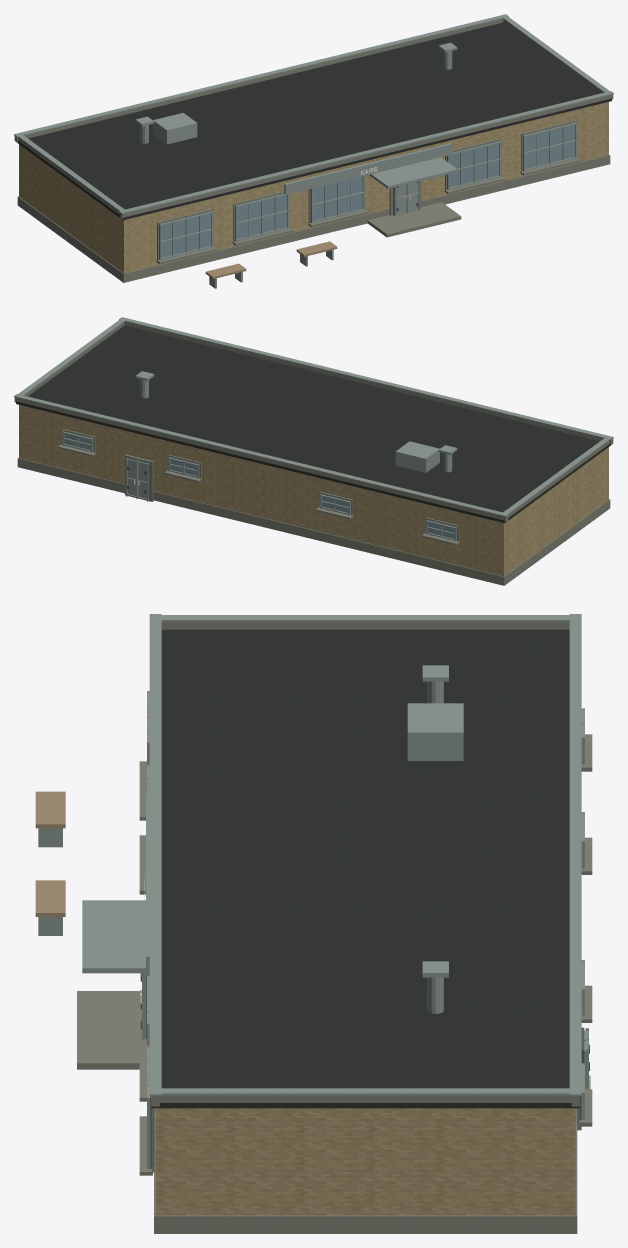
Rendered from truck_cafe.glb.
3 renders of one model, top to bottom at view 1: azimuth 30°, elevation 25°; view 2: azimuth 150°, elevation 25°; view 3: azimuth 270°, elevation 25°, orthographic. The views are drawn at different scales.
Visible parts, largest first — view 1: truck_cafe; view 2: truck_cafe; view 3: truck_cafe.
Boxes of the visible parts, x1,y1,x2,y2 form: truck_cafe: (14,14,613,288); truck_cafe: (14,317,613,585); truck_cafe: (35,614,592,1233).
Size of the model in its own units: 32.46 by 5.65 by 15.89.
8 materials, 3 textured.
